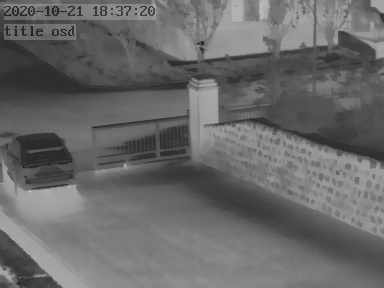vehicle: (1, 127, 79, 193)
